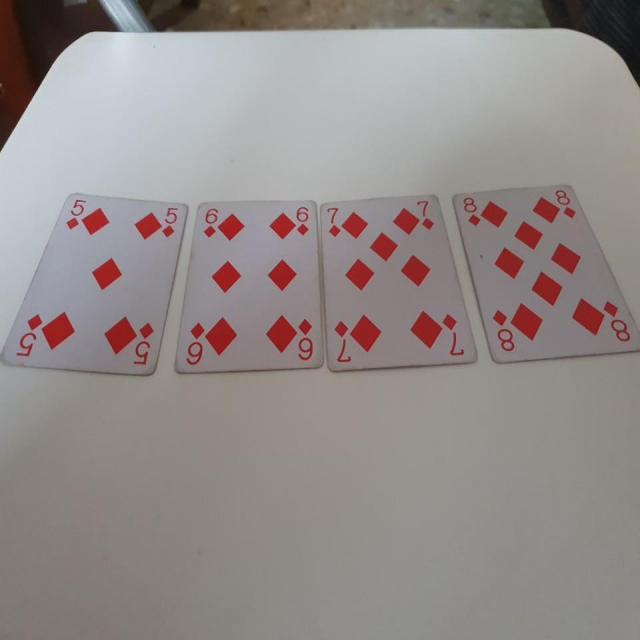5 Diamonds: (3, 192, 190, 381)
6 Diamonds: (174, 198, 323, 377)
7 Diamonds: (318, 191, 479, 374)
8 Diamonds: (449, 182, 640, 364)
